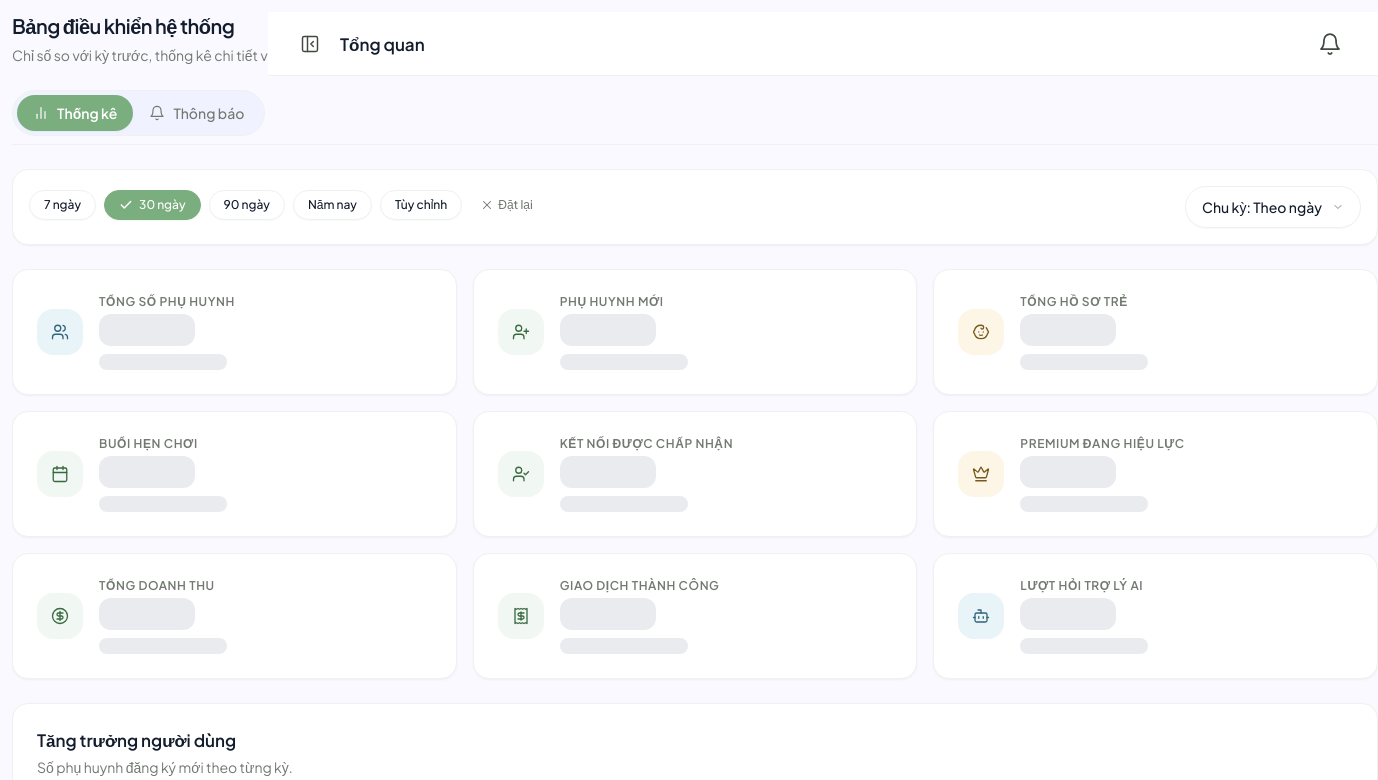
AdminDashboardPage › notification panel › loads the next page when the end of the list comes into view
The image size is (1378, 780).
Click the button named "Thông báo hệ thống".
click(1330, 44)  # box [1314, 28, 1346, 60]
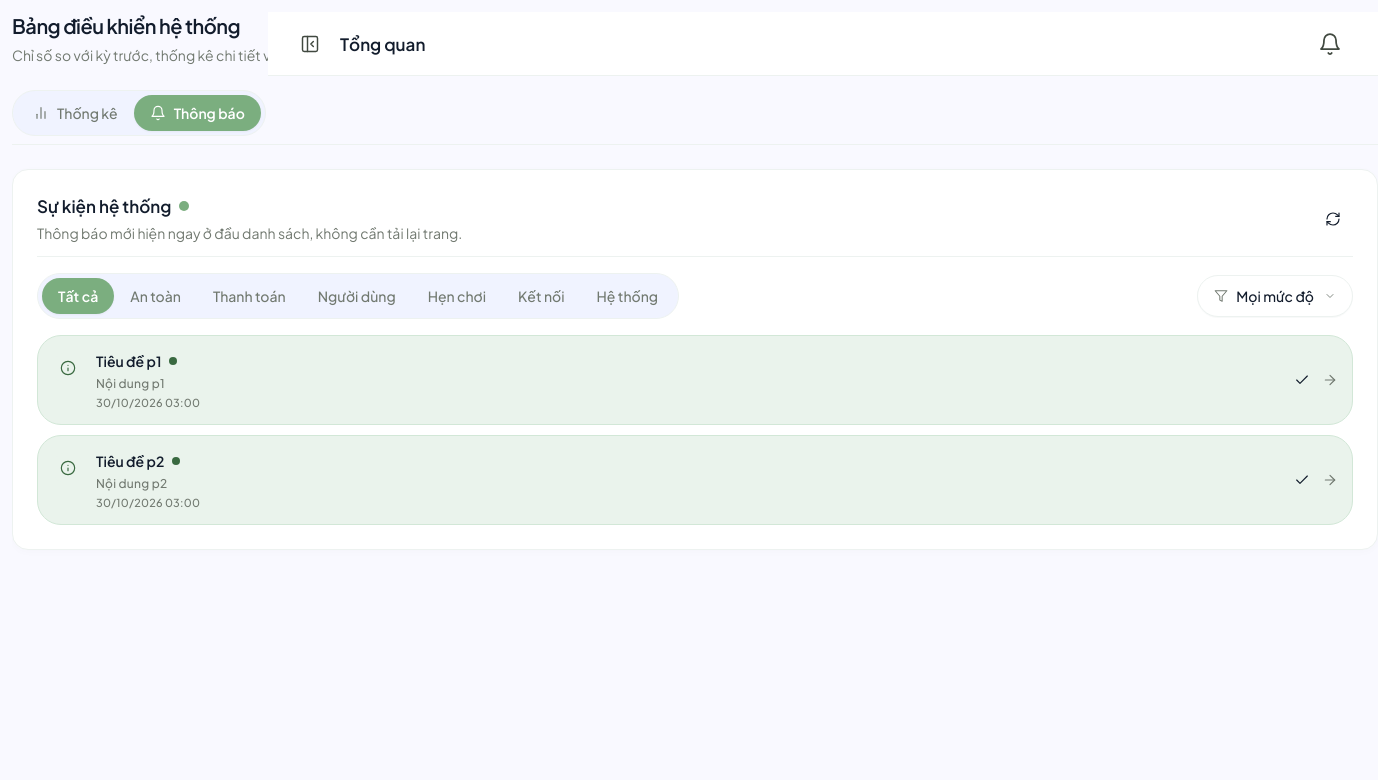
Expected: the heading "Sự kiện hệ thống" is shown, [37, 194, 171, 218]
Expected: the text "Tiêu đề p2" is shown, [96, 450, 164, 472]
Expected: the text "Tiêu đề p1" is shown, [96, 350, 161, 372]
